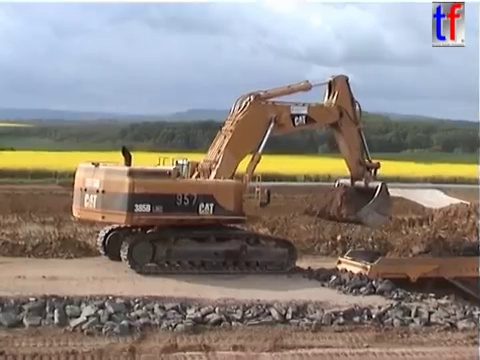excavator: (69, 72, 393, 276)
truck: (333, 246, 480, 343)
